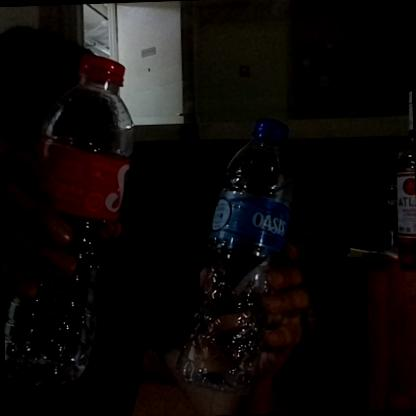plastic_bottles: (3, 53, 140, 382), (172, 117, 298, 390)
